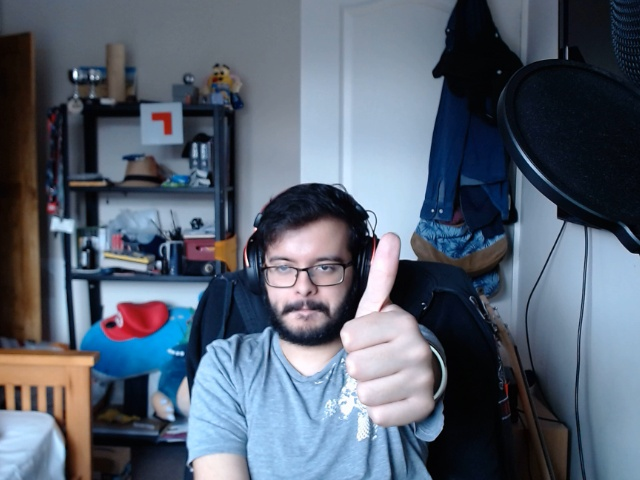Thumbs up: (335, 225, 444, 439)
